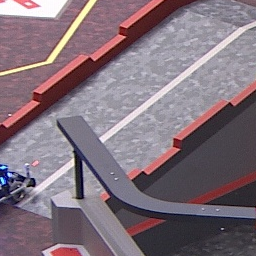Robot: (1, 161, 38, 205)
